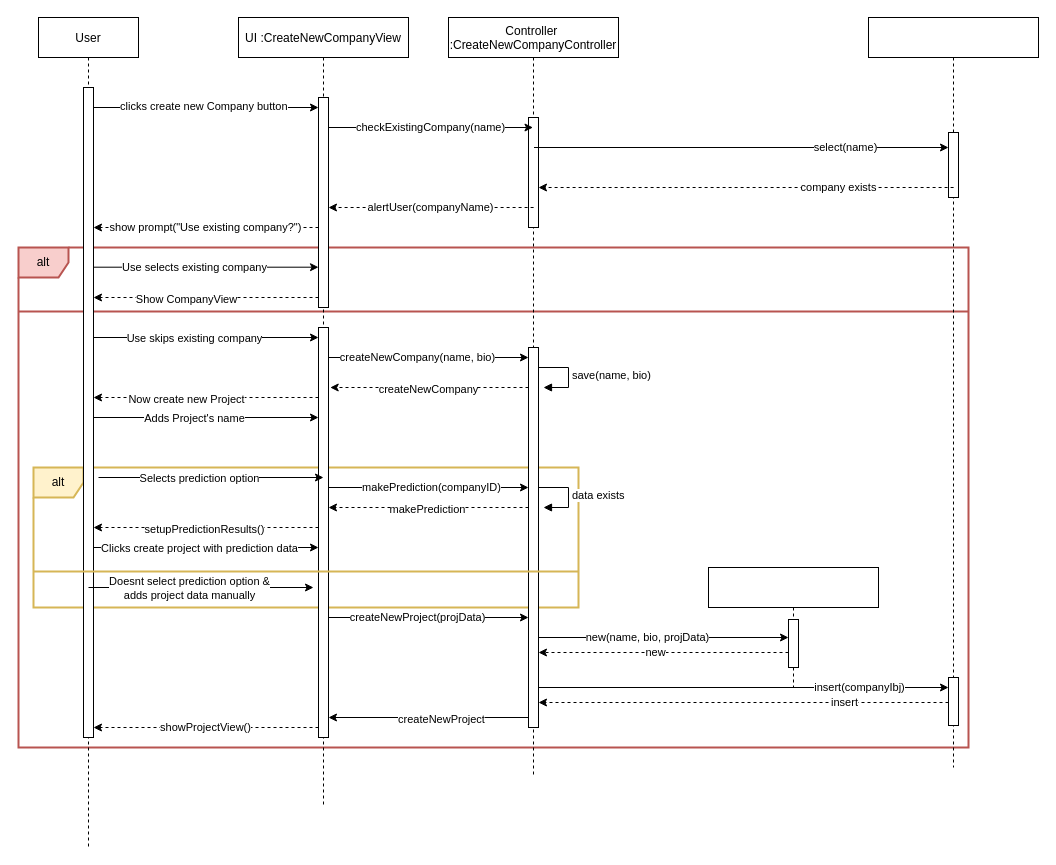
Image size: 1056x865. Some labels were removed from this diagram. The box of each missing label's shape, as (x1, y1, x2, y2) in pixels:
Database: (868, 16, 1038, 768)
Model: Company: (708, 566, 878, 688)
